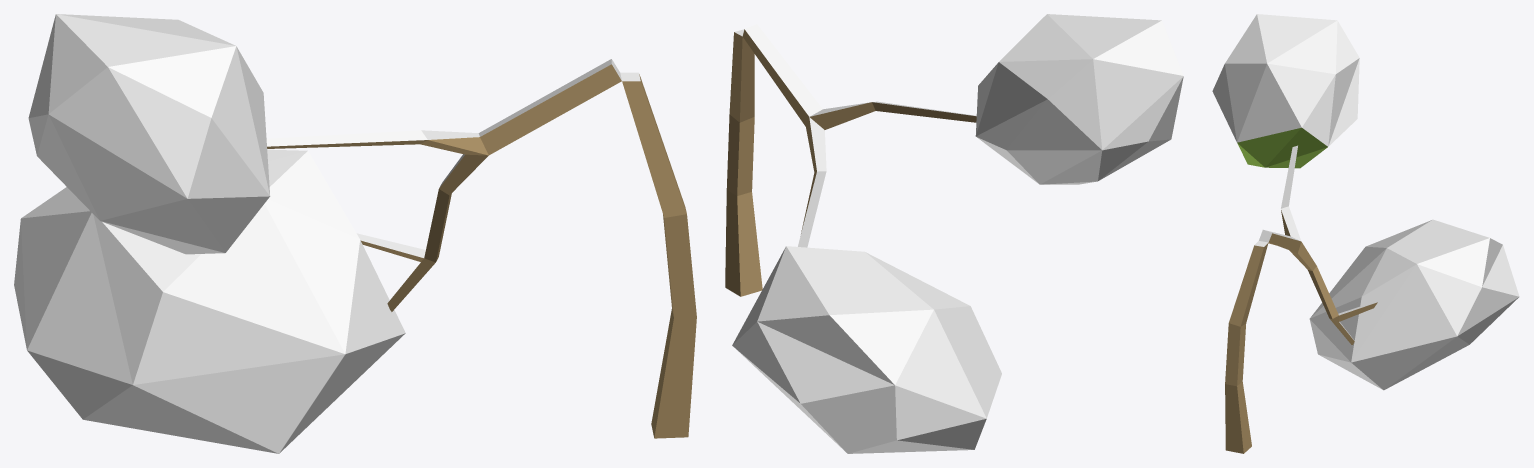
Rendered from Random_Tree_crk_s_Snow_02_LOD.fbx.
3 views of the same model, side by side, from view 1: azimuth 30°, elevation 25°; view 2: azimuth 150°, elevation 25°; view 3: azimuth 270°, elevation 25° (orthographic). The views are drawn at different scales.
Visible parts, largest first — view 1: Random_Tree_crk_s_Snow_02_LOD0; view 2: Random_Tree_crk_s_Snow_02_LOD0; view 3: Random_Tree_crk_s_Snow_02_LOD0.
Part boxes in pixels (x1,y1,x2,y2): Random_Tree_crk_s_Snow_02_LOD0: (14, 14, 696, 453); Random_Tree_crk_s_Snow_02_LOD0: (725, 14, 1183, 453); Random_Tree_crk_s_Snow_02_LOD0: (1212, 14, 1519, 453).
Size of what is drawn, in the model's own units: 193 by 147 by 145.
